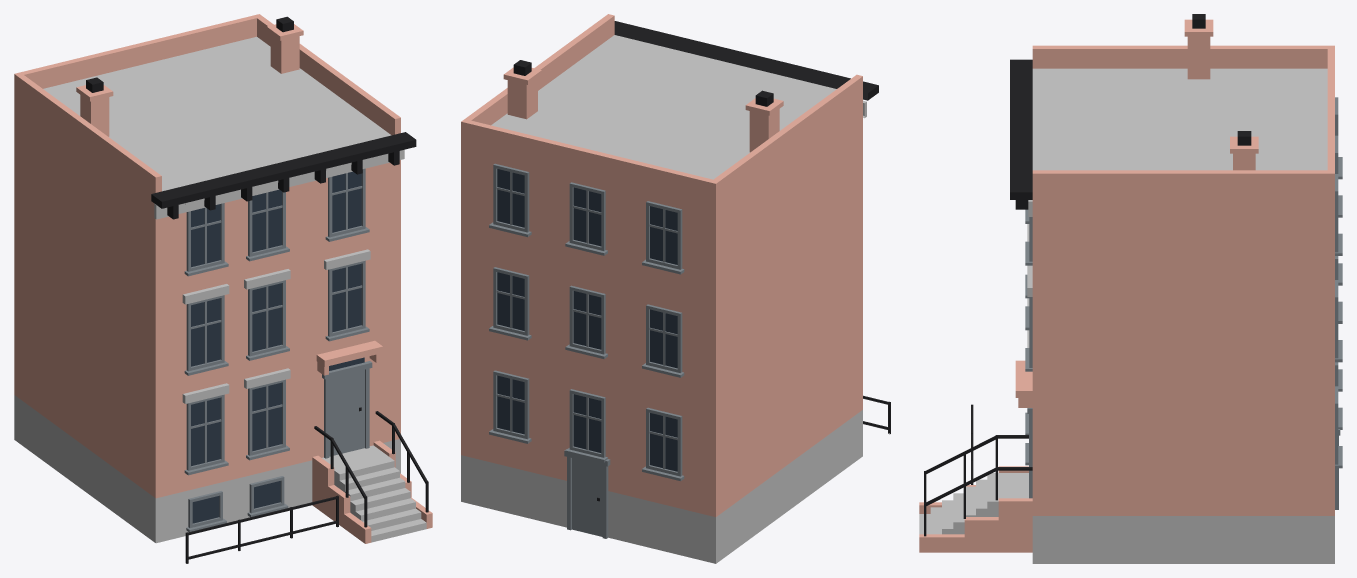
The model's file is brownstone.gltf.
3 views of the same model, side by side, from view 1: azimuth 30°, elevation 25°; view 2: azimuth 150°, elevation 25°; view 3: azimuth 270°, elevation 25° (orthographic). The views are drawn at different scales.
Visible parts, largest first — view 1: brownstone; view 2: brownstone; view 3: brownstone.
Boxes of the visible parts, x1,y1,x2,y2 form: brownstone: (14, 14, 432, 563); brownstone: (461, 14, 890, 563); brownstone: (919, 14, 1342, 563).
Bounding box in the file's own units: 8.3 × 12.5 × 11.2.
